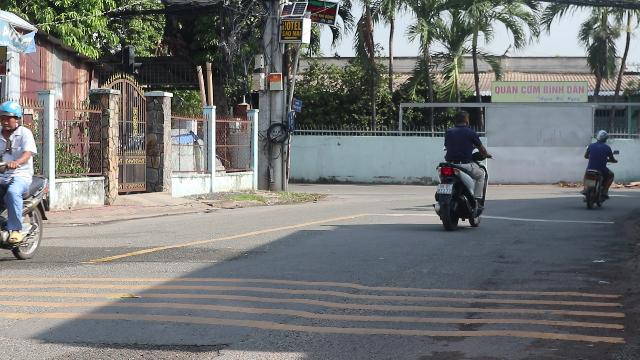helmet: (0, 100, 22, 132)
licenseplate: (436, 183, 452, 193)
motorcyclist: (1, 100, 52, 268), (432, 110, 488, 229)
nohelmet: (452, 110, 470, 126)
